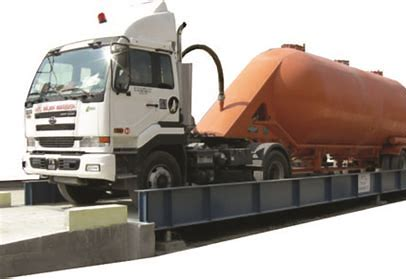Industrial Scale: (22, 169, 406, 230)
